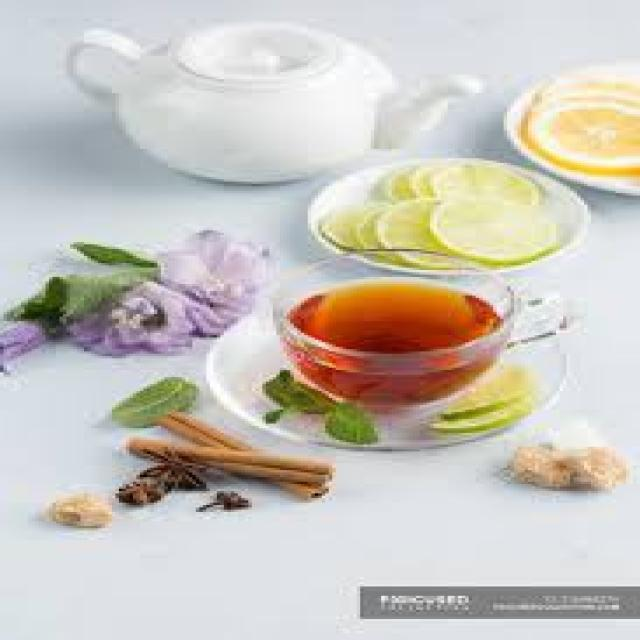taza: (231, 253, 577, 418)
